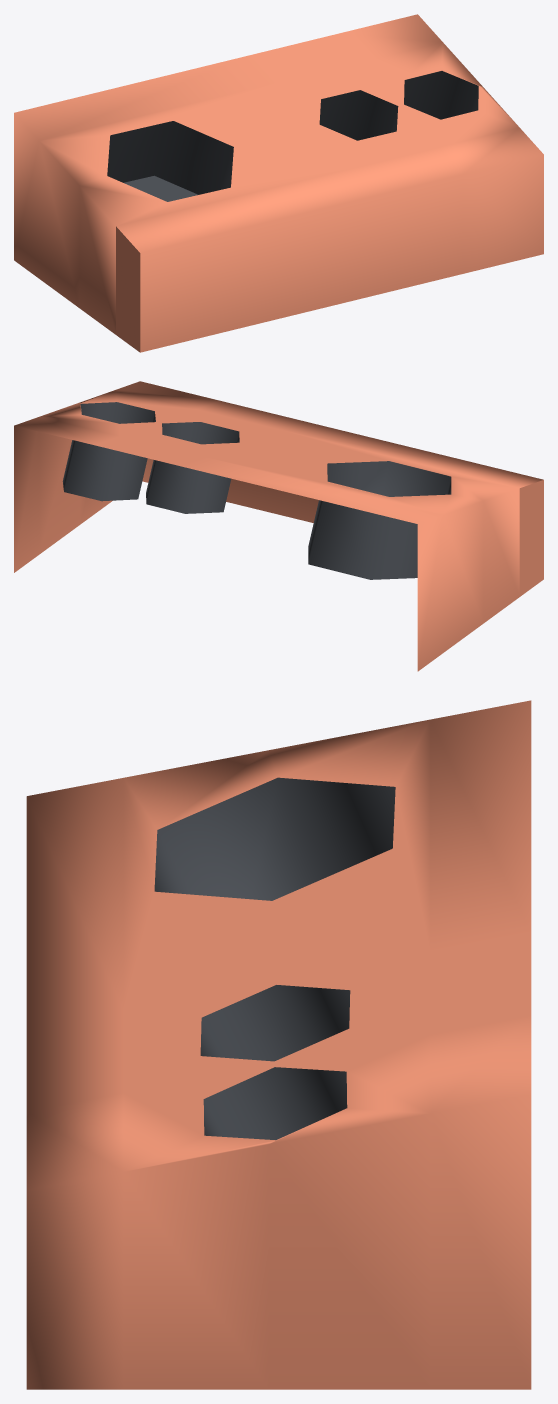
Rendered from Mixer.fbx.
The picture shows the model from 3 angles, top to bottom: view 1: azimuth 30°, elevation 25°; view 2: azimuth 150°, elevation 25°; view 3: azimuth 270°, elevation 25°; orthographic projection. The views are drawn at different scales.
Parts seen in each view (by area): view 1: YeneMixer:pCube1; view 2: YeneMixer:pCube1; view 3: YeneMixer:pCube1.
Boxes of the visible parts, <box> form: YeneMixer:pCube1: <box>14,14,543,352</box>; YeneMixer:pCube1: <box>14,381,543,671</box>; YeneMixer:pCube1: <box>26,700,531,1389</box>.
Bounding box in the file's own units: 10.14 × 3.54 × 5.49.
